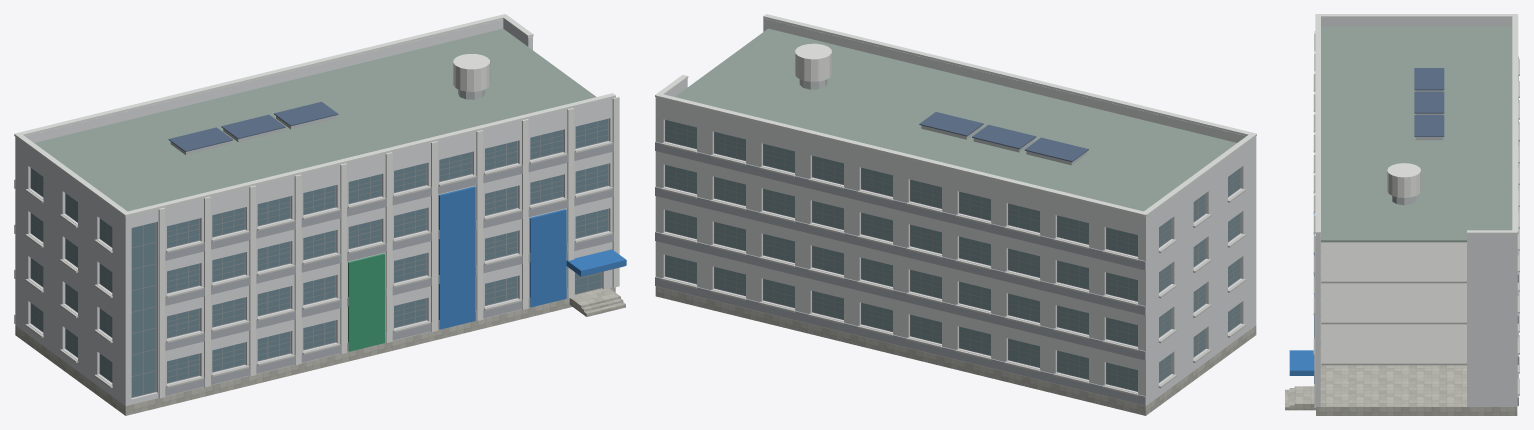
3 renders of one model, left to right at view 1: azimuth 30°, elevation 25°; view 2: azimuth 150°, elevation 25°; view 3: azimuth 270°, elevation 25°, orthographic. The views are drawn at different scales.
Parts seen in each view (by area): view 1: practice__greywall, practice__roof, practice__glass, practice__band, practice__spandrel, practice__frame, practice__blue, practice__cap, practice__stone, practice__sill, practice__greenpanel, practice__sideglass (+4 smaller); view 2: practice__greywall, practice__roof, practice__sideglass, practice__spandrel, practice__frame, practice__cap, practice__stone, practice__sill, practice__solar, practice__tank, practice__steel; view 3: practice__roof, practice__slab, practice__greywall, practice__stone, practice__cap, practice__solar, practice__sill, practice__tank, practice__band, practice__blue, practice__steel, practice__threshold-front (+1 smaller).
Boxes of the visible parts, x1,y1,x2,y2 form: practice__greywall: [15, 19, 612, 405]; practice__roof: [34, 28, 595, 211]; practice__glass: [131, 119, 607, 396]; practice__band: [158, 97, 619, 398]; practice__spandrel: [14, 142, 613, 395]; practice__frame: [30, 118, 608, 397]; practice__blue: [438, 186, 626, 329]; practice__cap: [14, 14, 615, 216]; practice__stone: [15, 287, 615, 415]; practice__sill: [25, 142, 612, 388]; practice__greenpanel: [348, 253, 384, 351]; practice__sideglass: [31, 168, 112, 381]; practice__greywall: [655, 18, 1256, 405]; practice__roof: [675, 28, 1236, 211]; practice__sideglass: [666, 120, 1240, 390]; practice__spandrel: [655, 141, 1145, 405]; practice__frame: [665, 120, 1240, 391]; practice__cap: [655, 14, 1256, 216]; practice__stone: [655, 286, 1256, 415]; practice__sill: [661, 142, 1245, 396]; practice__solar: [919, 112, 1088, 161]; practice__tank: [795, 43, 831, 81]; practice__steel: [799, 79, 1086, 165]; practice__roof: [1321, 26, 1512, 242]; practice__slab: [1321, 242, 1466, 365]; practice__greywall: [1316, 18, 1517, 406]; practice__stone: [1316, 234, 1517, 415]; practice__cap: [1315, 14, 1518, 234]; practice__solar: [1414, 68, 1444, 136]; practice__sill: [1313, 59, 1519, 395]; practice__tank: [1387, 163, 1421, 197]; practice__band: [1314, 31, 1315, 407]; practice__blue: [1289, 213, 1314, 383]; practice__steel: [1392, 90, 1443, 205]; practice__threshold-front: [1299, 386, 1315, 410].
Bounding box in the file's own units: 41.45 × 17.81 × 18.67.
Materials: 17 (1 with a texture image).
